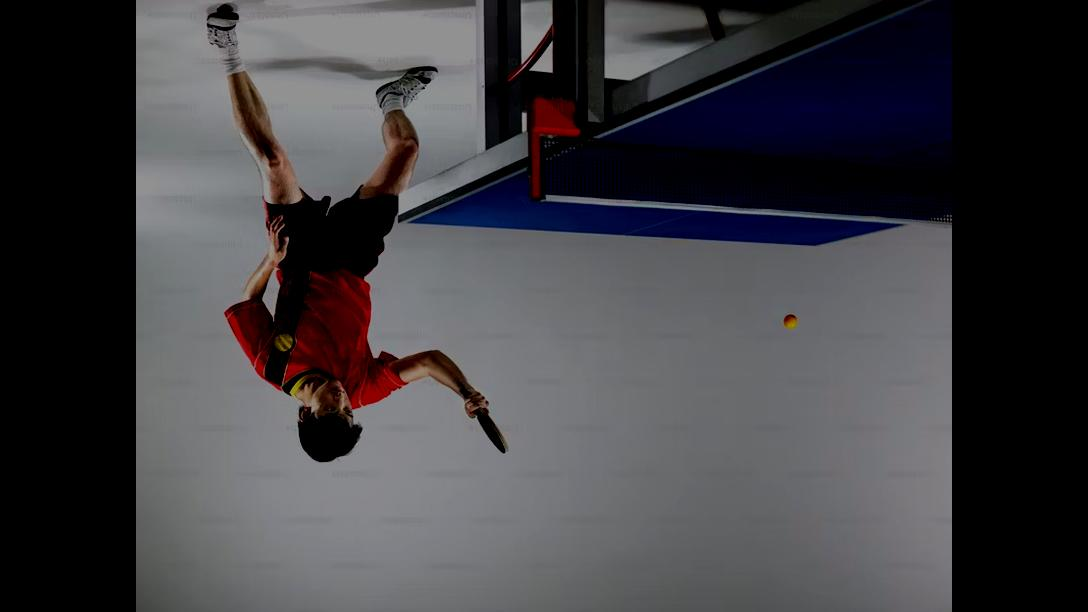Table-Tennis-Ball: (783, 315, 797, 328)
